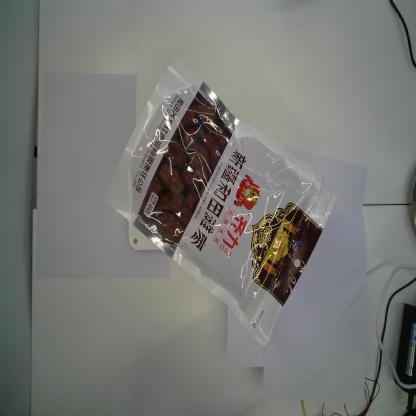Dried Food: (103, 53, 339, 351)
